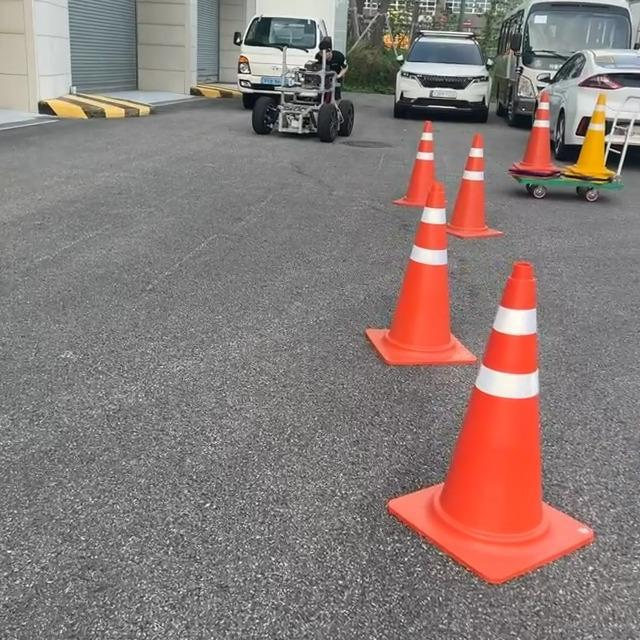fallen_object: (397, 233, 605, 572), (365, 201, 485, 369), (352, 107, 473, 227), (516, 72, 624, 203), (427, 115, 517, 255)
